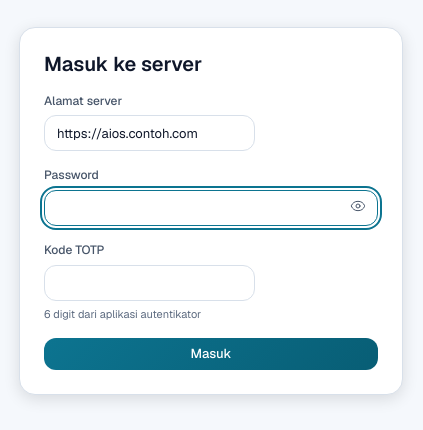
Test case: LoginScreen › password kosong dan TOTP pendek ditolak lokal tanpa memanggil server
The image size is (423, 430).
Type "123" into the field labelled "Kode TOTP" at x=150, y=283, box [44,265,255,301]
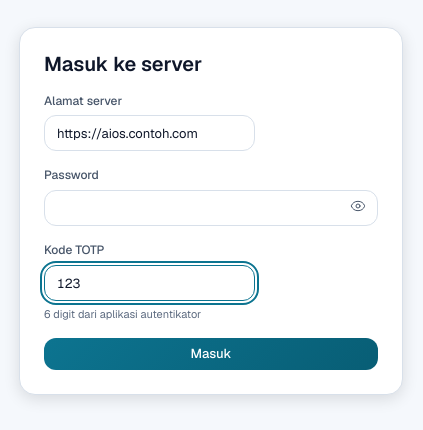
Click the button "Masuk" at x=211, y=354, box [44,338,378,370]
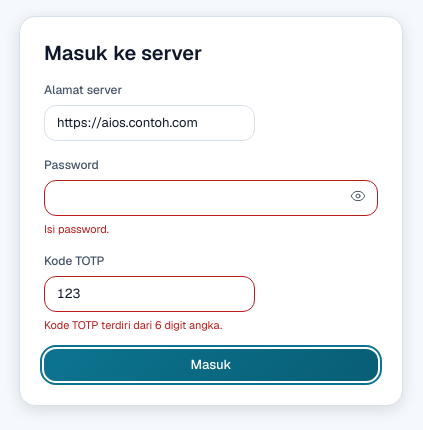
Expected: the text "Isi password." is shown, [44,222,109,236]
Expected: the text "Kode TOTP terdiri dari 6 digit angka." is shown, [44,318,222,332]
